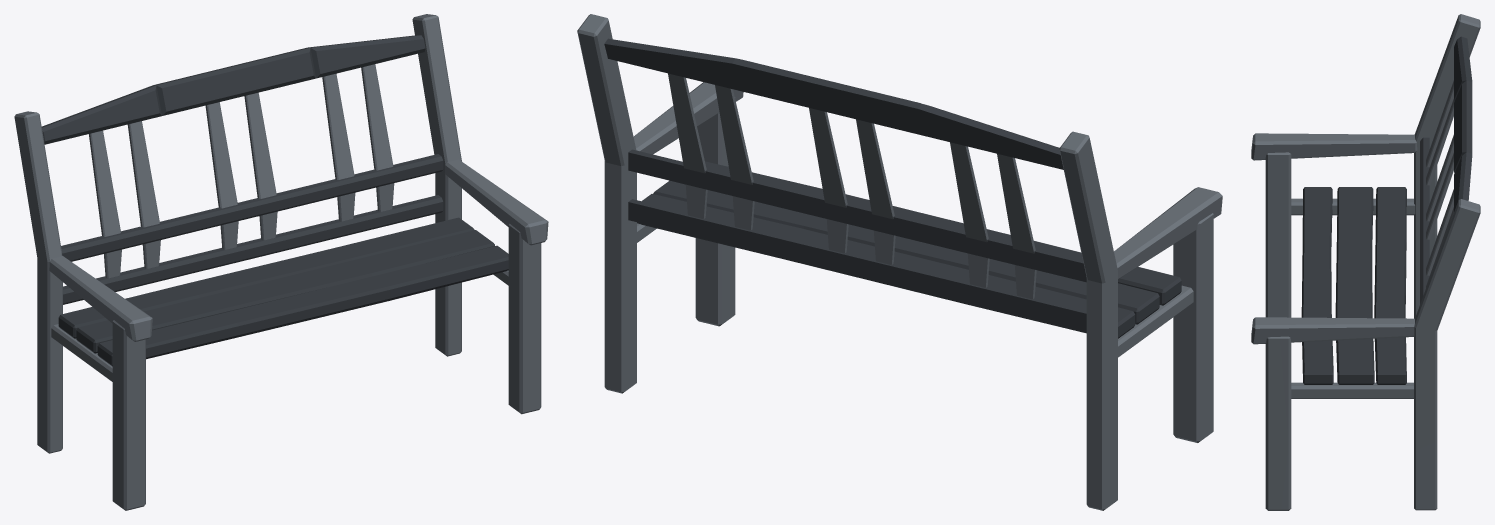
Rendered from bench_b.gltf.
3 renders of one model, left to right at view 1: azimuth 30°, elevation 25°; view 2: azimuth 150°, elevation 25°; view 3: azimuth 270°, elevation 25°, orthographic. The views are drawn at different scales.
Visible parts, largest first — view 1: bench_b001; view 2: bench_b001; view 3: bench_b001.
Boxes of the visible parts, x1=… form: bench_b001: x1=14, y1=14, x2=548, y2=510; bench_b001: x1=577, y1=14, x2=1222, y2=510; bench_b001: x1=1251, y1=14, x2=1480, y2=510.
Bounding box in the file's own units: 1.38 × 1.01 × 0.6873.
1 material, 1 textured.
